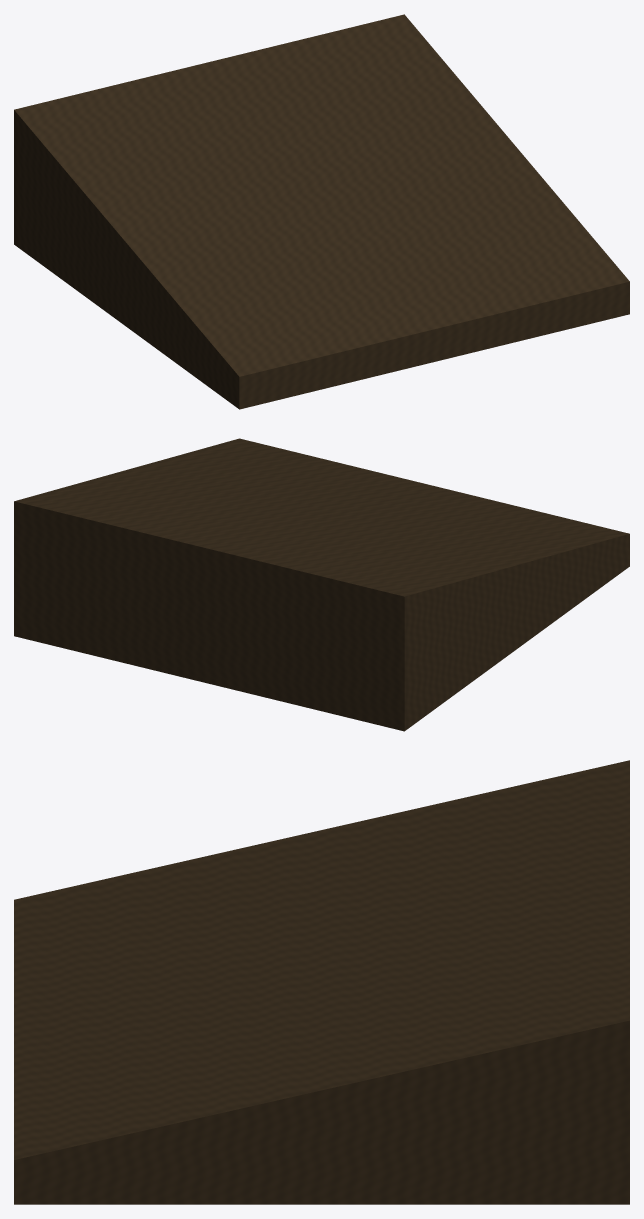
The model's file is terrain_slope_2m.glb.
The picture shows the model from 3 angles, top to bottom: view 1: azimuth 30°, elevation 25°; view 2: azimuth 150°, elevation 25°; view 3: azimuth 270°, elevation 25°; orthographic projection. The views are drawn at different scales.
Visible parts, largest first — view 1: slope; view 2: slope; view 3: slope.
Part boxes in pixels (x1,y1,x2,y2): slope: (14, 14, 629, 409); slope: (14, 438, 629, 731); slope: (14, 760, 629, 1204).
Size of the model in its own units: 2 by 0.66 by 2.
Materials: 1 (1 with a texture image).
